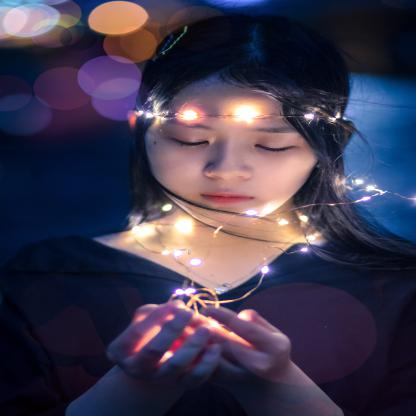Eye: (164, 127, 213, 150), (252, 134, 300, 155)
Mouth: (196, 187, 258, 207)
Nose: (204, 142, 254, 180)
